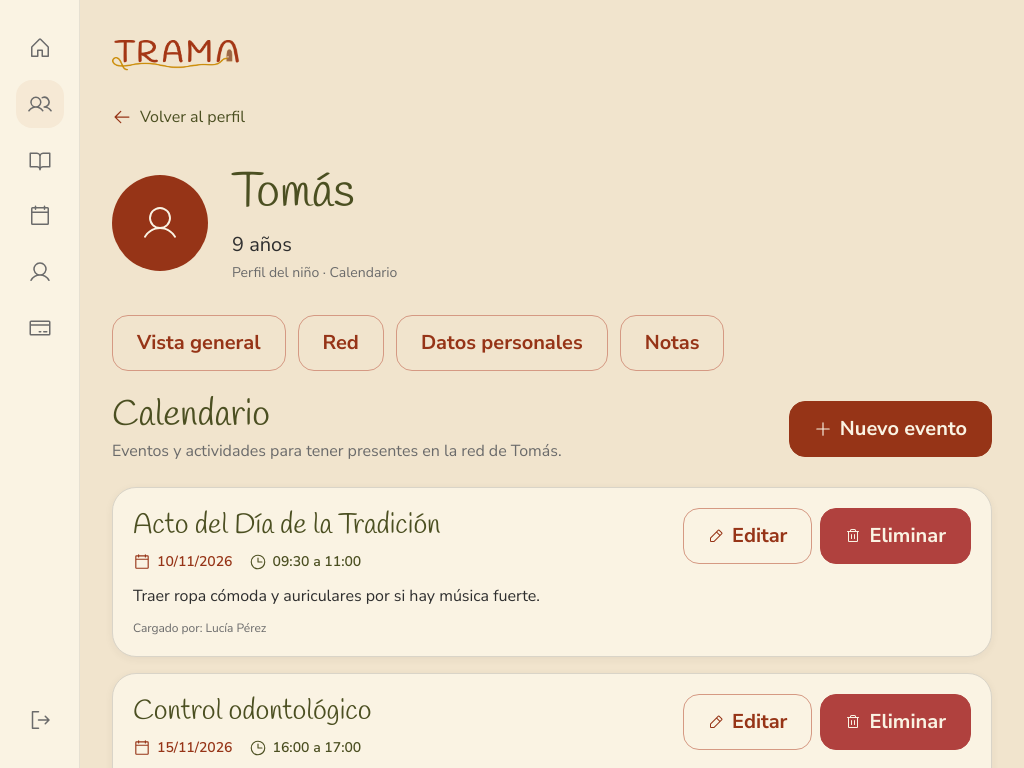
Test case: Calendario y eventos del niño (Tarea 5.0) › permite que un tutor edite o elimine cualquier evento del niño
Expected: the heading "Control odontológico" is shown, [133,694,372,730]
Expected: the button with aria-label "Eliminar Acto del Día de la Tradición" is shown, [820,508,971,564]
Click the button with aria-label "Eliminar Control odontológico": [896, 722] box [820,694,971,750]
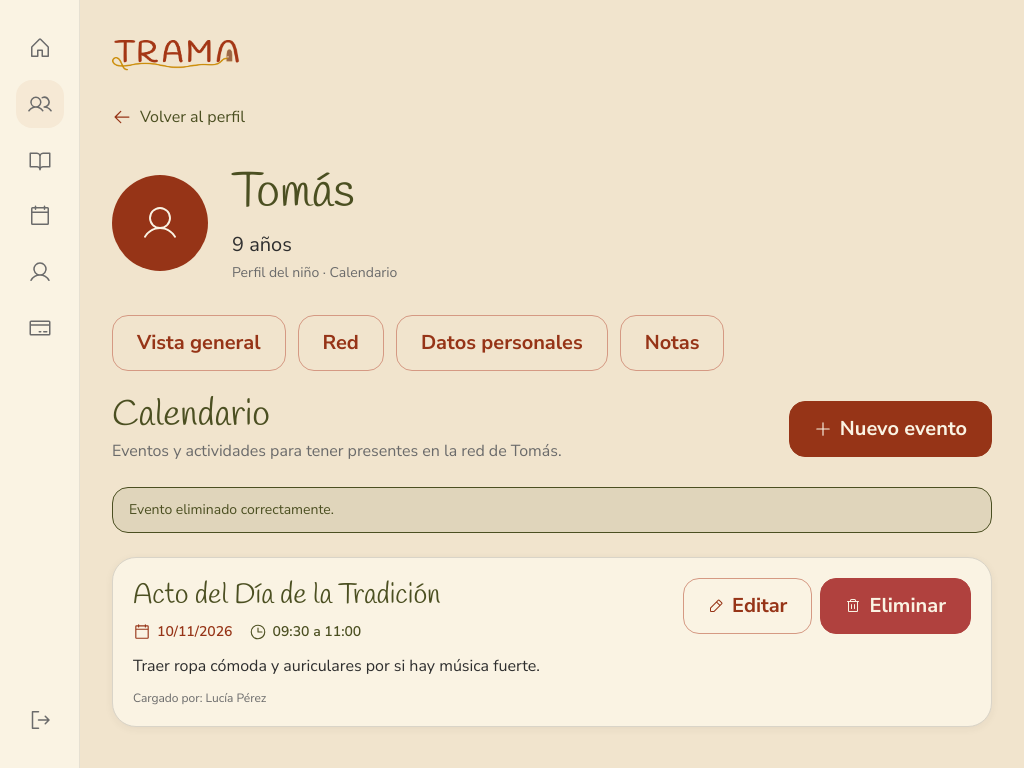
Expected: the heading "Control odontológico" is gone
